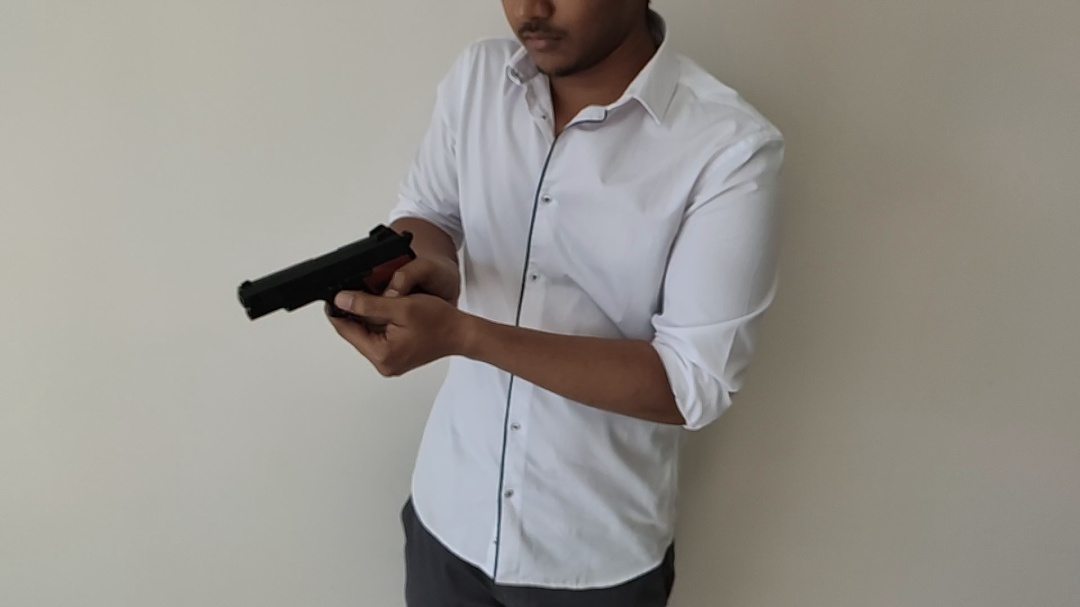gun: (321, 284, 783, 491)
